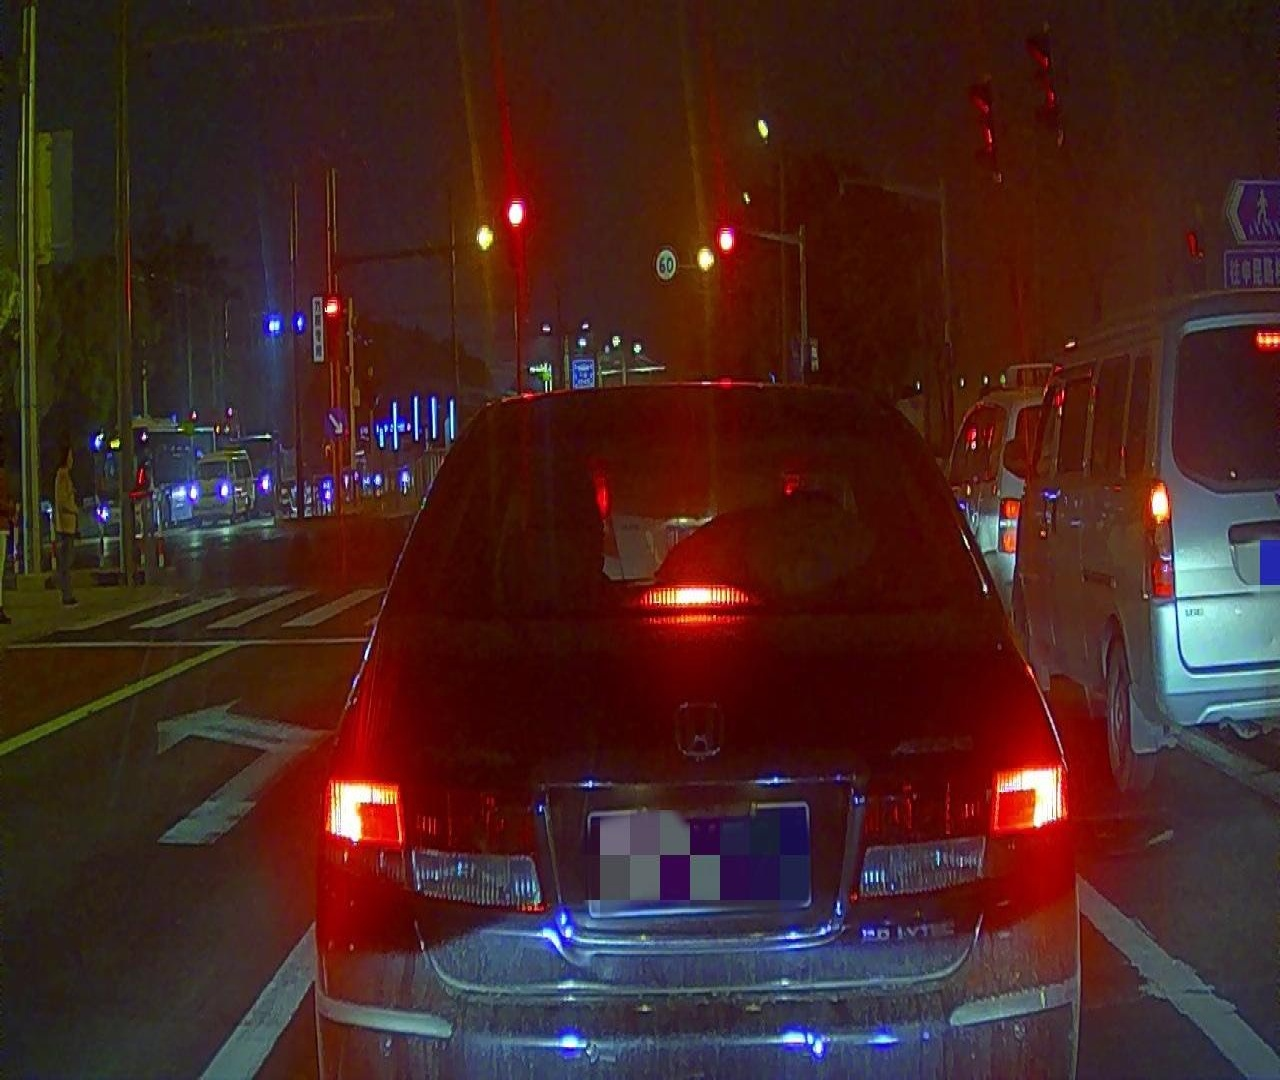red: (721, 229, 733, 252), (510, 204, 522, 220)
yellow: (698, 246, 712, 271), (477, 228, 492, 249)
